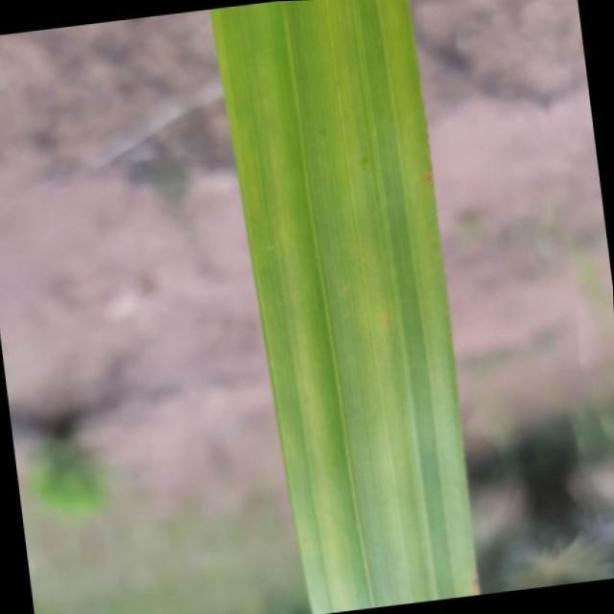nitrogen: (221, 0, 483, 614)
